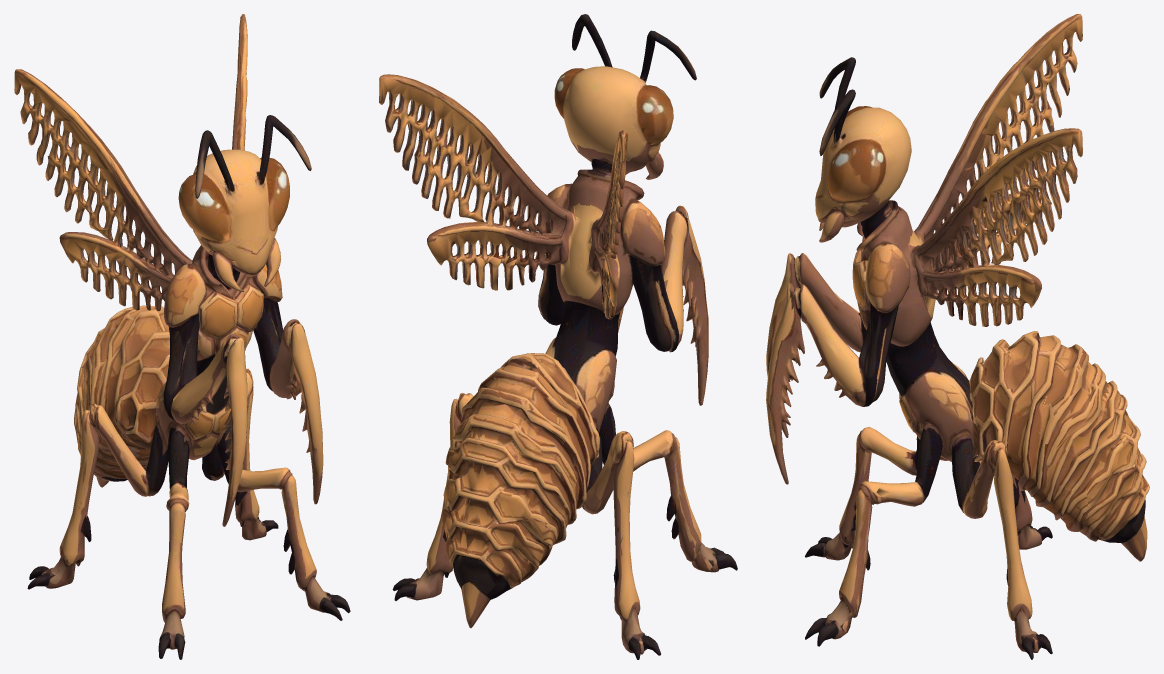
Rendered from hivara.glb.
The picture shows the model from 3 angles, left to right: view 1: azimuth 30°, elevation 25°; view 2: azimuth 150°, elevation 25°; view 3: azimuth 270°, elevation 25°; orthographic projection. The views are drawn at different scales.
Parts seen in each view (by area): view 1: Mesh_0; view 2: Mesh_0; view 3: Mesh_0.
Boxes of the visible parts, x1,y1,x2,y2 form: Mesh_0: [14, 14, 350, 659]; Mesh_0: [379, 14, 737, 659]; Mesh_0: [766, 14, 1149, 659].
Bounding box in the file's own units: 0.9902 × 1.9 × 1.25.
1 material, 1 textured.
